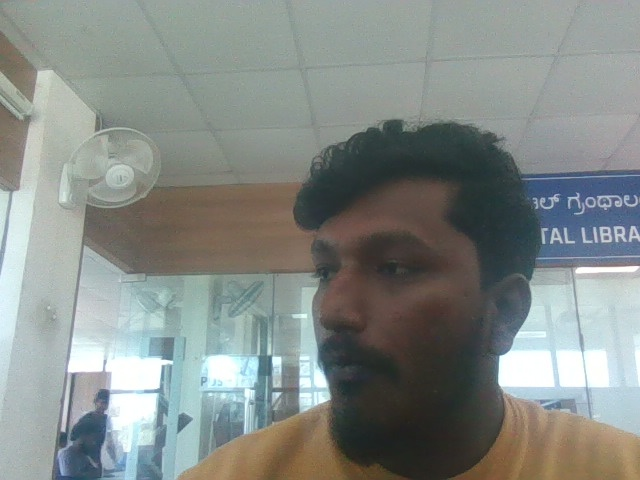real: (281, 92, 528, 442)
